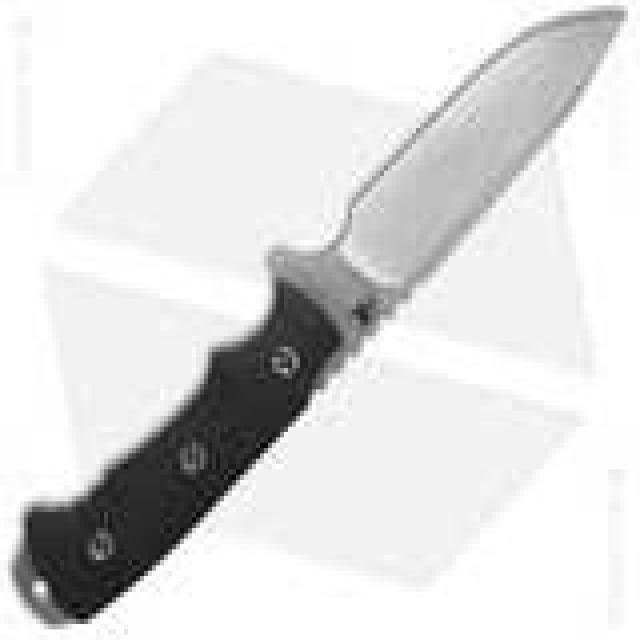knife: (8, 0, 636, 624)
